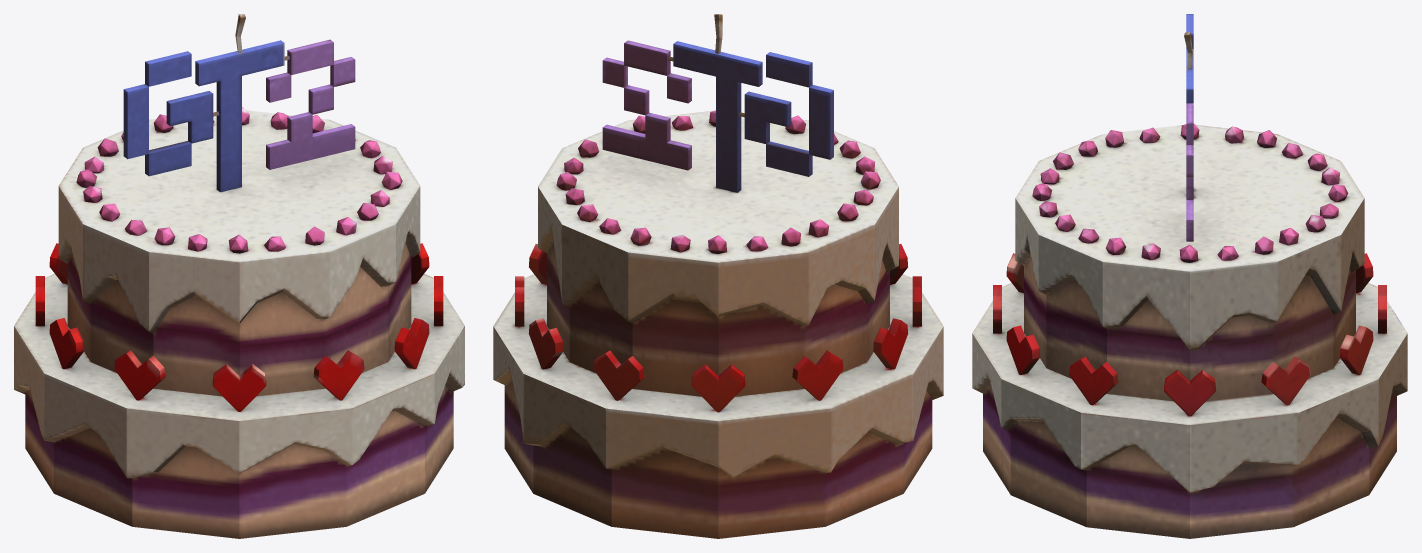
The model's file is BirthdayCakeGT2.fbx.
The picture shows the model from 3 angles, left to right: view 1: azimuth 30°, elevation 25°; view 2: azimuth 150°, elevation 25°; view 3: azimuth 270°, elevation 25°; orthographic projection. The views are drawn at different scales.
Visible parts, largest first — view 1: BirthdayCakeGT2; view 2: BirthdayCakeGT2; view 3: BirthdayCakeGT2.
Part boxes in pixels (left/top/right/bottom): BirthdayCakeGT2: left=14, top=14, right=464, bottom=538; BirthdayCakeGT2: left=493, top=14, right=943, bottom=538; BirthdayCakeGT2: left=972, top=14, right=1407, bottom=538.
Bounding box in the file's own units: 200 × 213 × 200.
